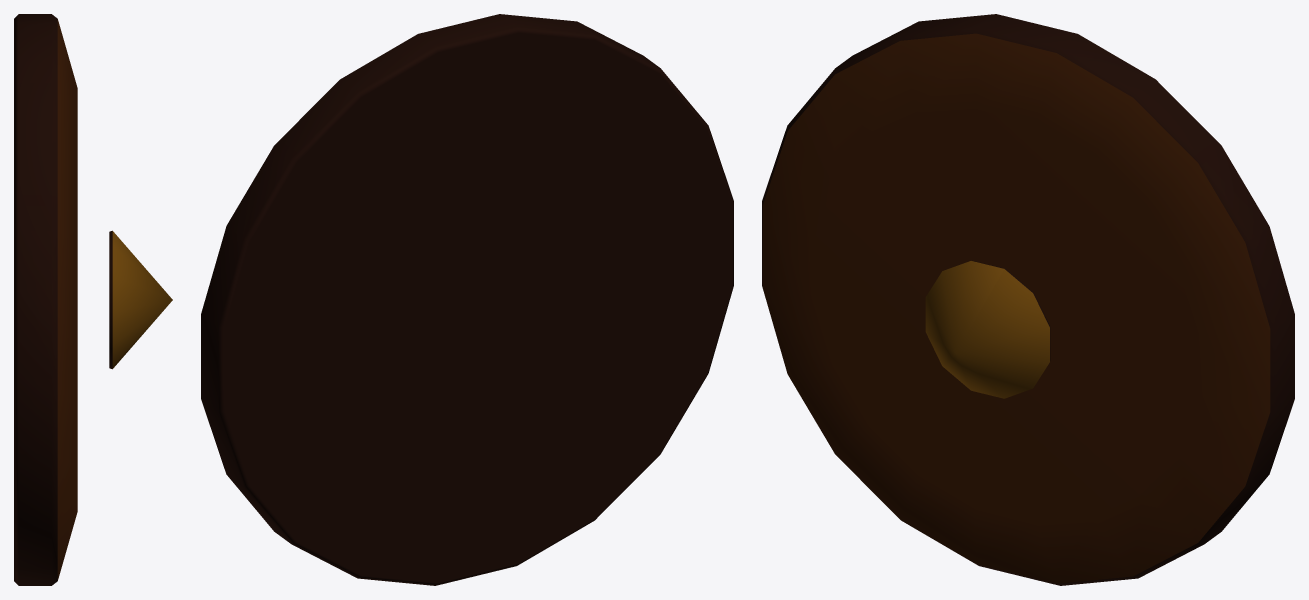
File: Escudo_Bronze.fbx
3 views of the same model, side by side, from view 1: azimuth 30°, elevation 25°; view 2: azimuth 150°, elevation 25°; view 3: azimuth 270°, elevation 25° (orthographic). The views are drawn at different scales.
Visible parts, largest first — view 1: Piece; view 2: Piece; view 3: Piece.
Boxes of the visible parts, <box> form: Piece: <box>14,14,172,585</box>; Piece: <box>201,14,733,585</box>; Piece: <box>762,14,1294,585</box>.
Size of the model in its own units: 0.298 by 0.5334 by 0.4774.
